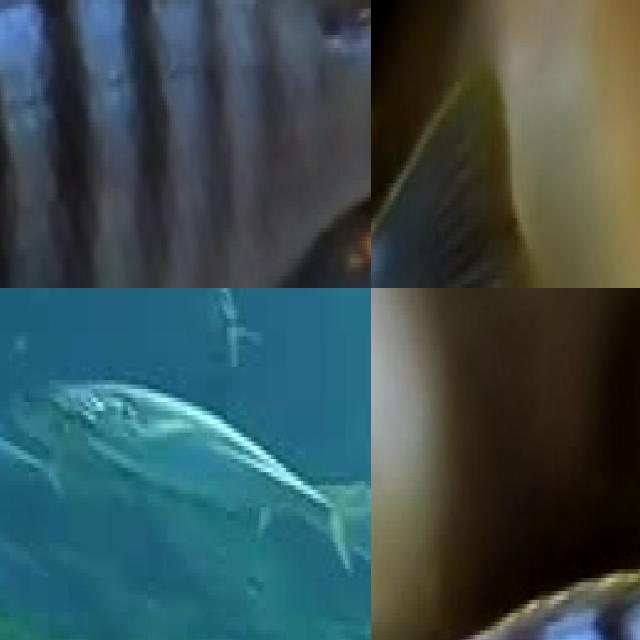fish: (0, 0, 371, 288), (371, 0, 537, 126)
